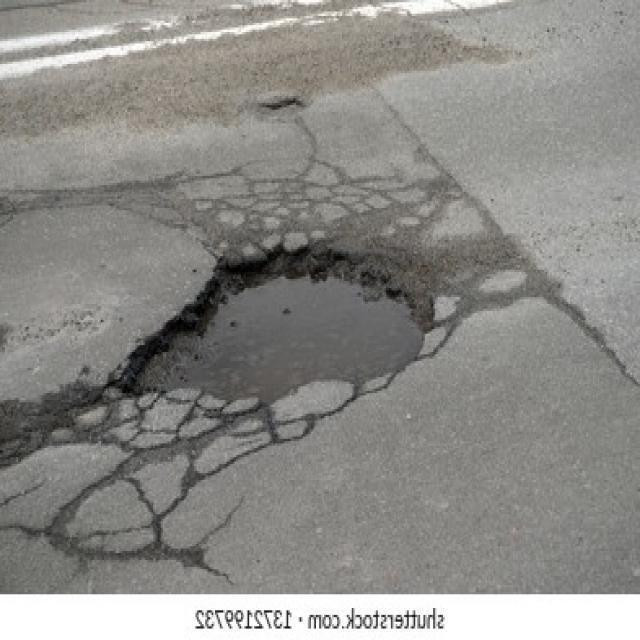pothole: (121, 247, 432, 407)
